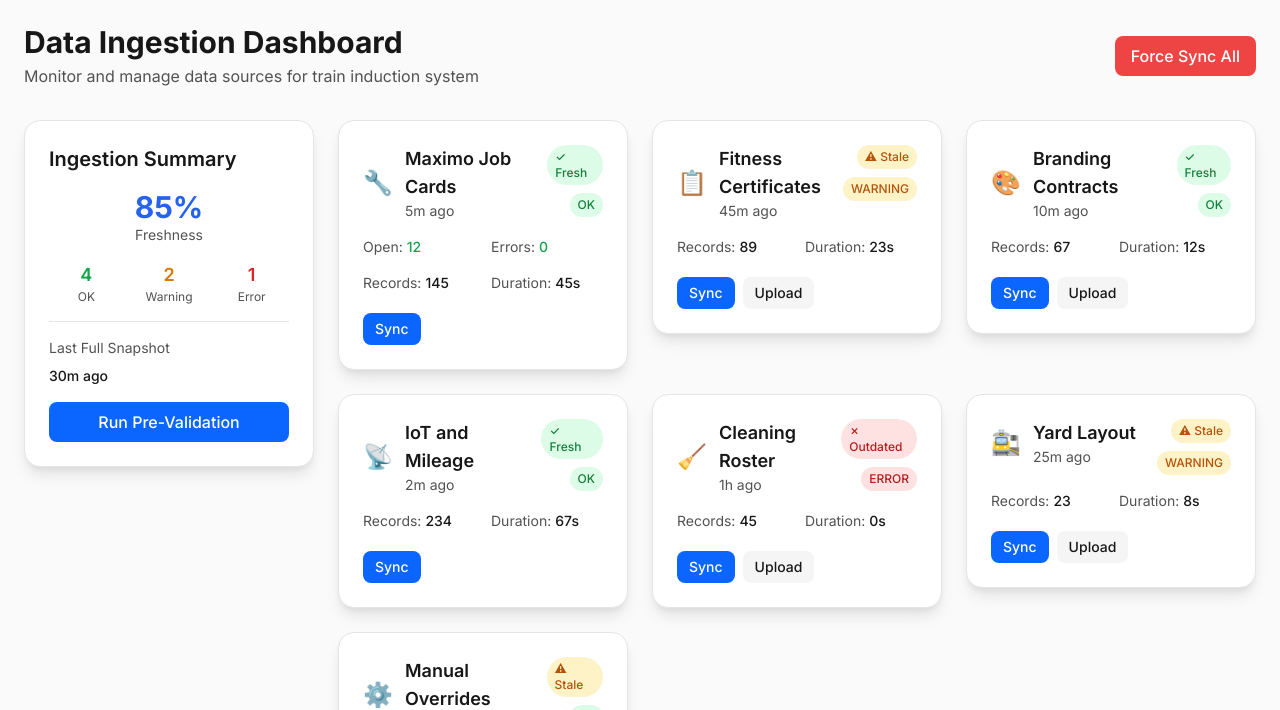
DataIngestionPage › displays invalid trains for certificate source
Expected: the text "Fitness Certificates" is shown, [719, 148, 821, 197]
Click the text "Fitness Certificates": (797, 227) [652, 120, 942, 334]
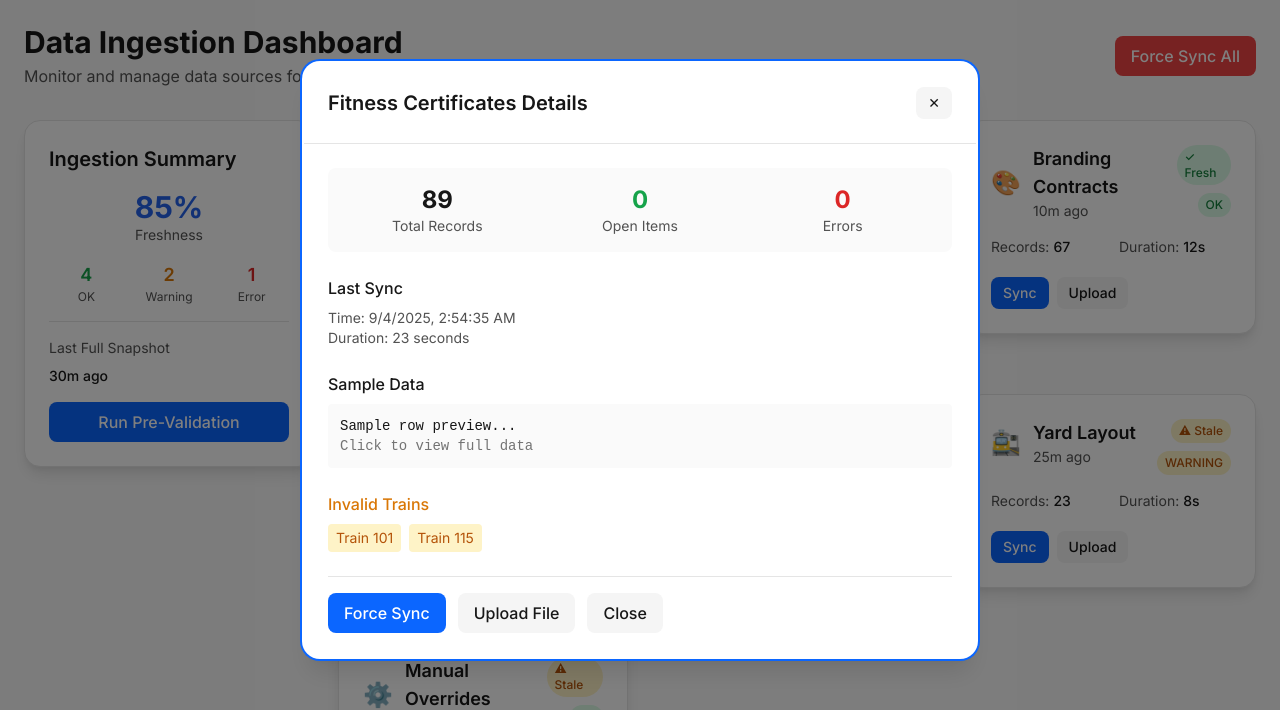
Expected: the heading "Invalid Trains" is shown, [328, 494, 429, 514]
Expected: the text "Train 101" is shown, [328, 524, 401, 552]
Expected: the text "Train 115" is shown, [409, 524, 482, 552]
